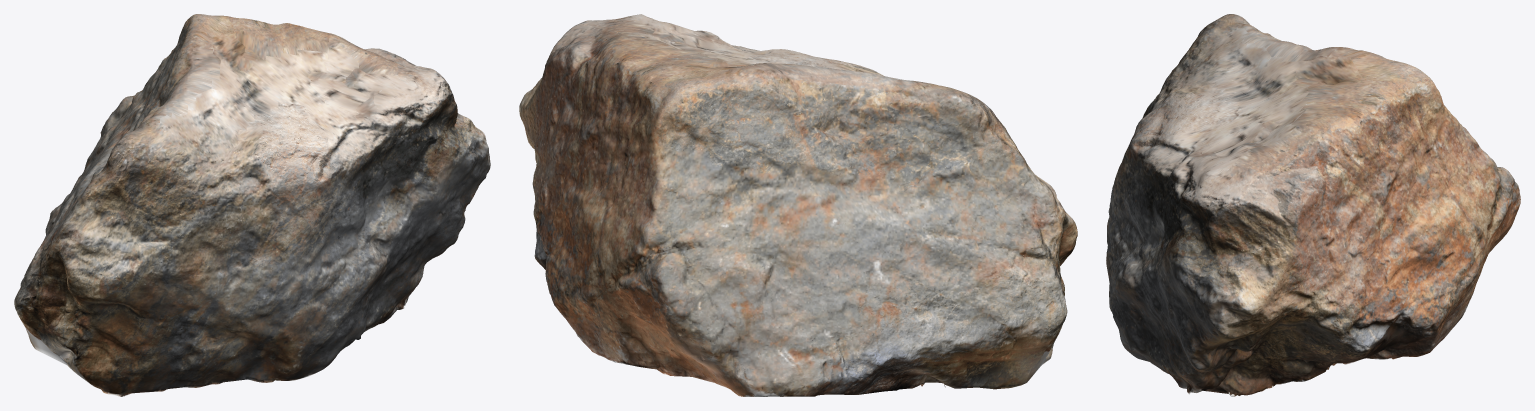
The model's file is sparse4.glb.
3 views of the same model, side by side, from view 1: azimuth 30°, elevation 25°; view 2: azimuth 150°, elevation 25°; view 3: azimuth 270°, elevation 25° (orthographic). The views are drawn at different scales.
Size of the model in its own units: 4.89 by 2.75 by 3.47.
1 material, 1 textured.
